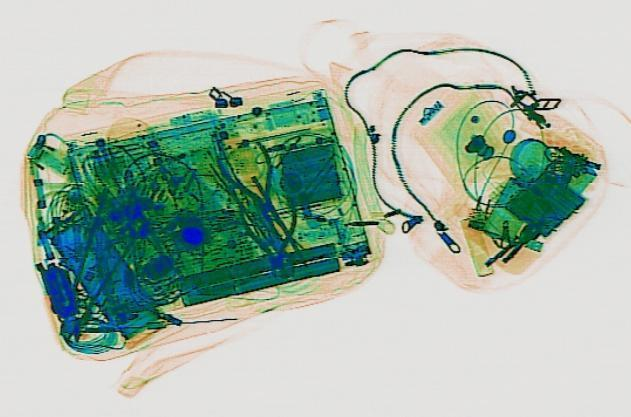Pliers: (207, 140, 298, 220), (232, 195, 310, 277)
